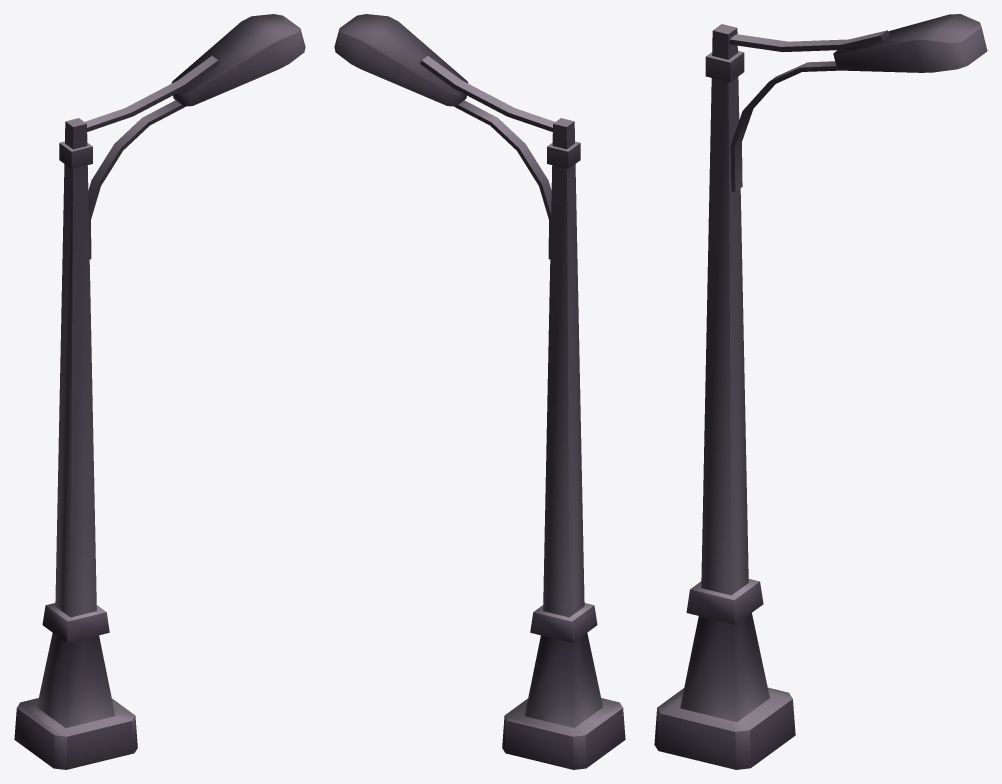
File: Streetlight_3A_single.fbx
The picture shows the model from 3 angles, left to right: view 1: azimuth 30°, elevation 25°; view 2: azimuth 150°, elevation 25°; view 3: azimuth 330°, elevation 25°; orthographic projection. The views are drawn at different scales.
Parts seen in each view (by area): view 1: Streetlight_3A_single; view 2: Streetlight_3A_single; view 3: Streetlight_3A_single.
Part boxes in pixels (x1,y1,x2,y2): Streetlight_3A_single: (14, 14, 305, 769); Streetlight_3A_single: (334, 14, 625, 769); Streetlight_3A_single: (654, 14, 987, 769).
Bounding box in the file's own units: 104 × 253 × 33.24.
